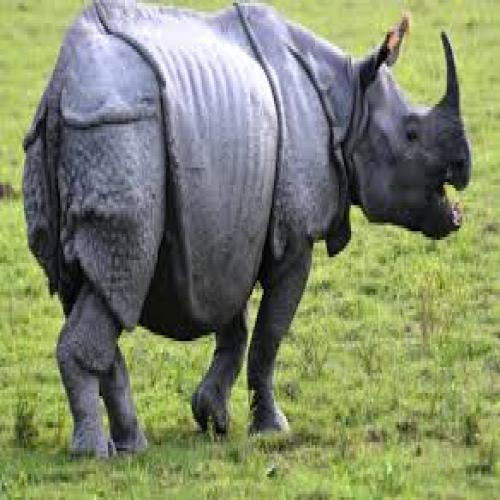rhino-endangered: (20, 9, 472, 459)
